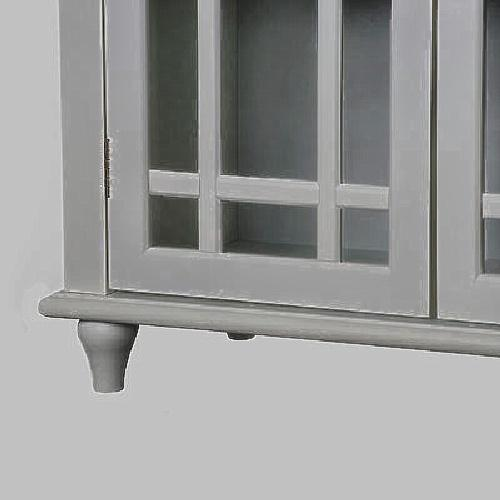cabinet: (54, 7, 490, 402)
